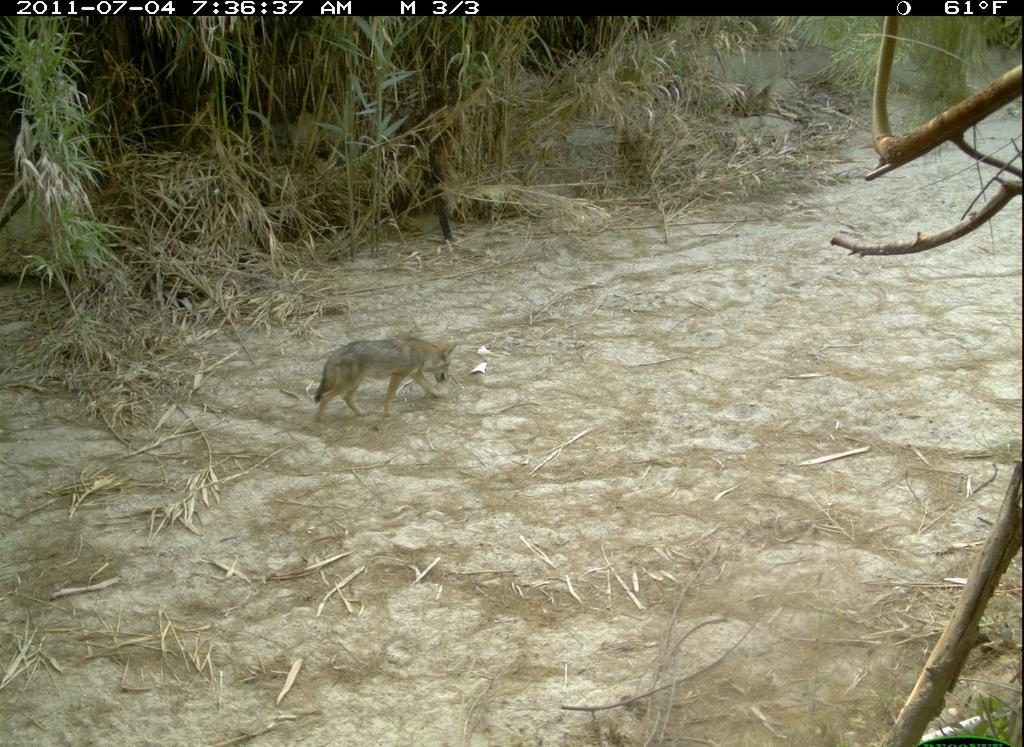coyote: (312, 323, 461, 418)
